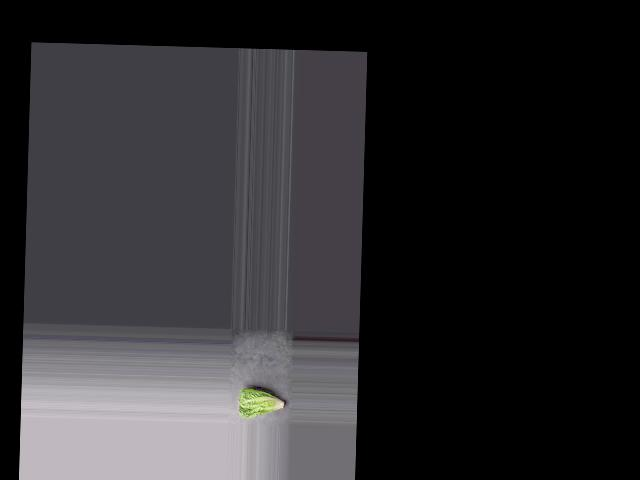lettuce: (238, 386, 288, 420)
